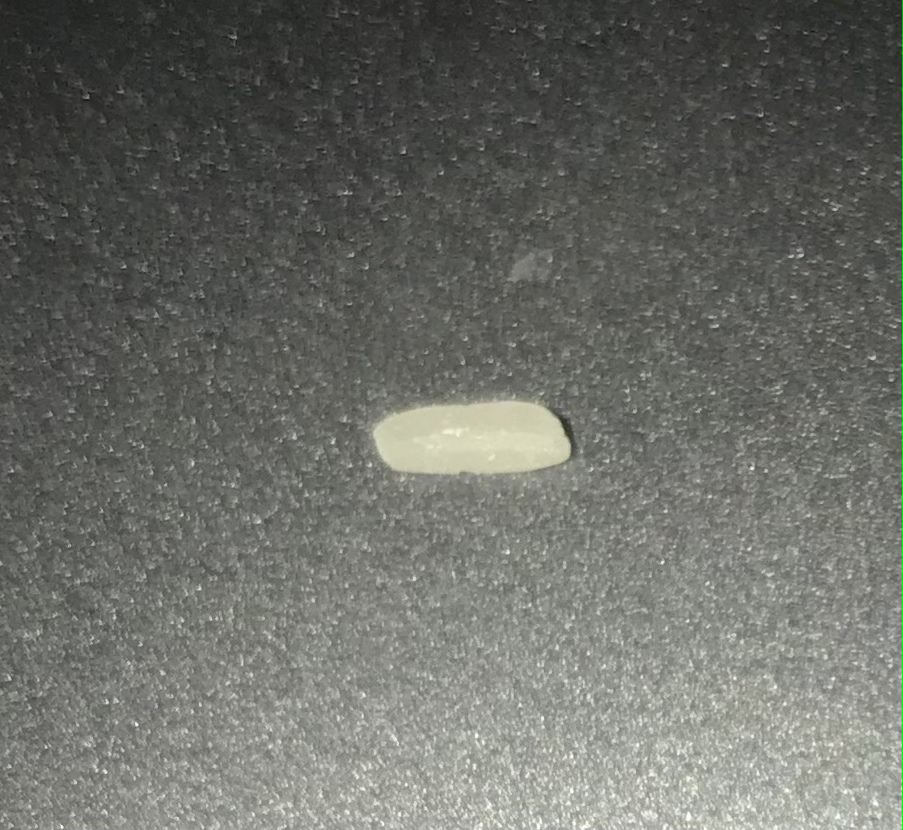Gao Tam Thom: (354, 360, 604, 488)
